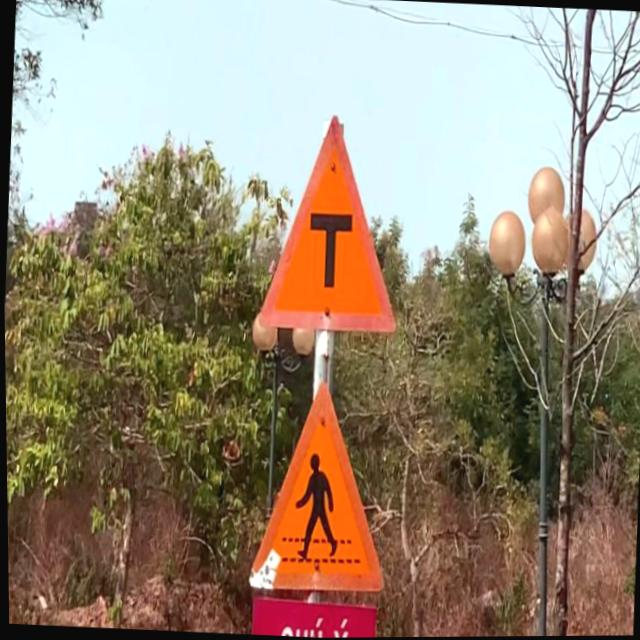Nguoi di bo cat ngang: (241, 377, 394, 599)
